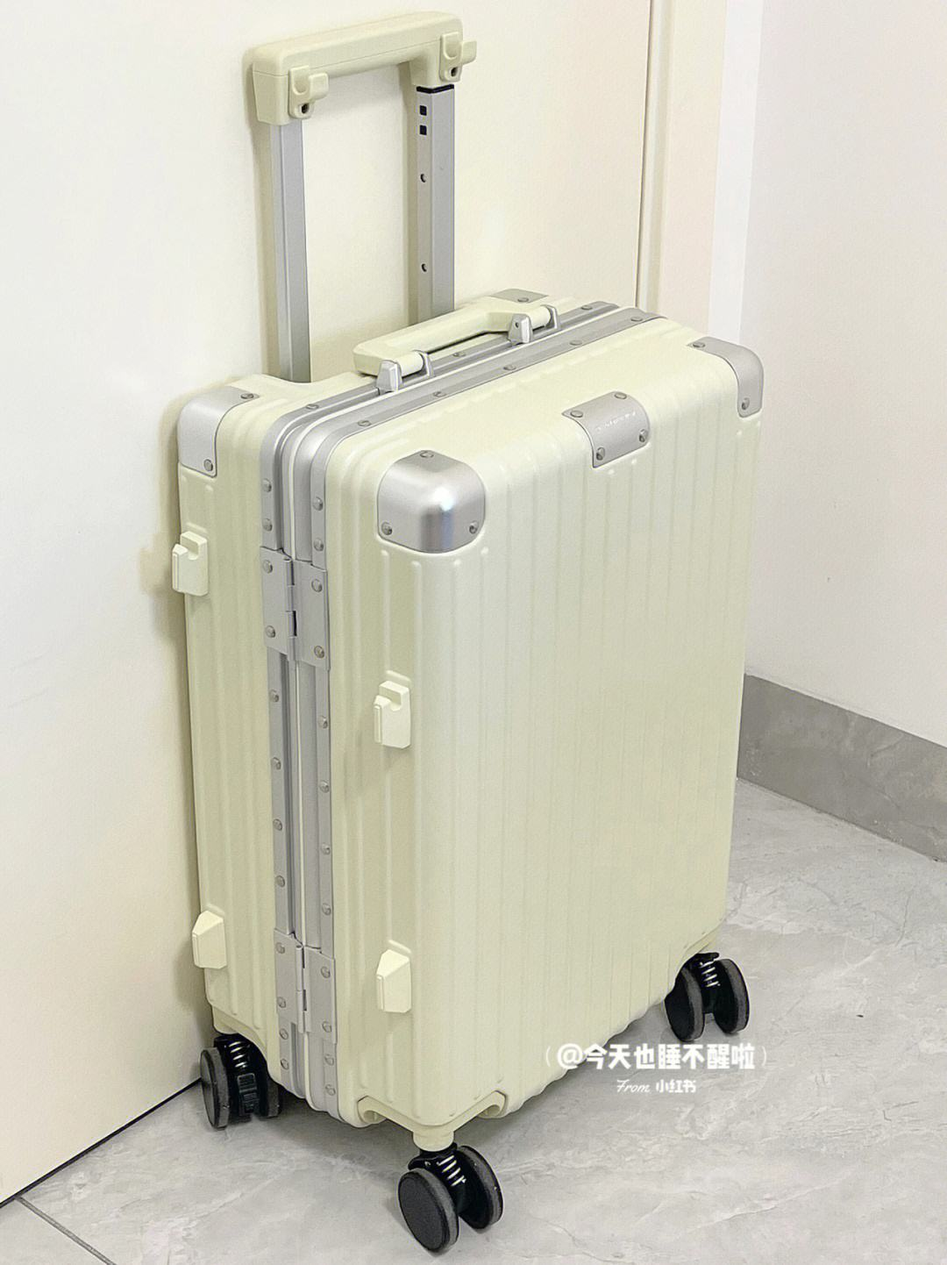box: (175, 289, 765, 1152)
handle: (352, 299, 561, 394)
wheel: (397, 1144, 502, 1254), (199, 1033, 284, 1132), (664, 952, 750, 1042)
